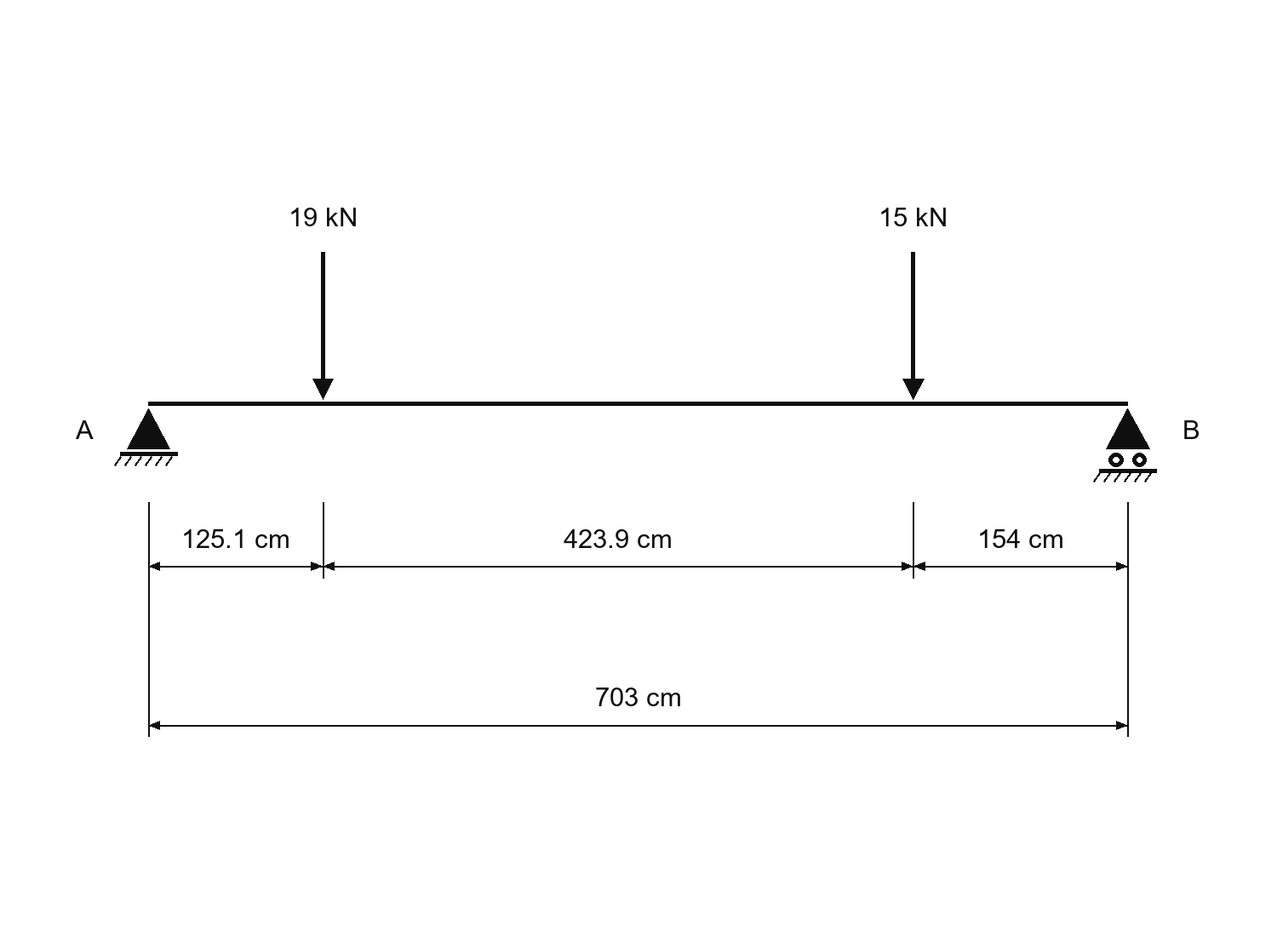pin_support: (114, 408, 178, 466)
point_load: (902, 252, 925, 400), (312, 252, 334, 400)
roller_support: (1093, 408, 1157, 482)
